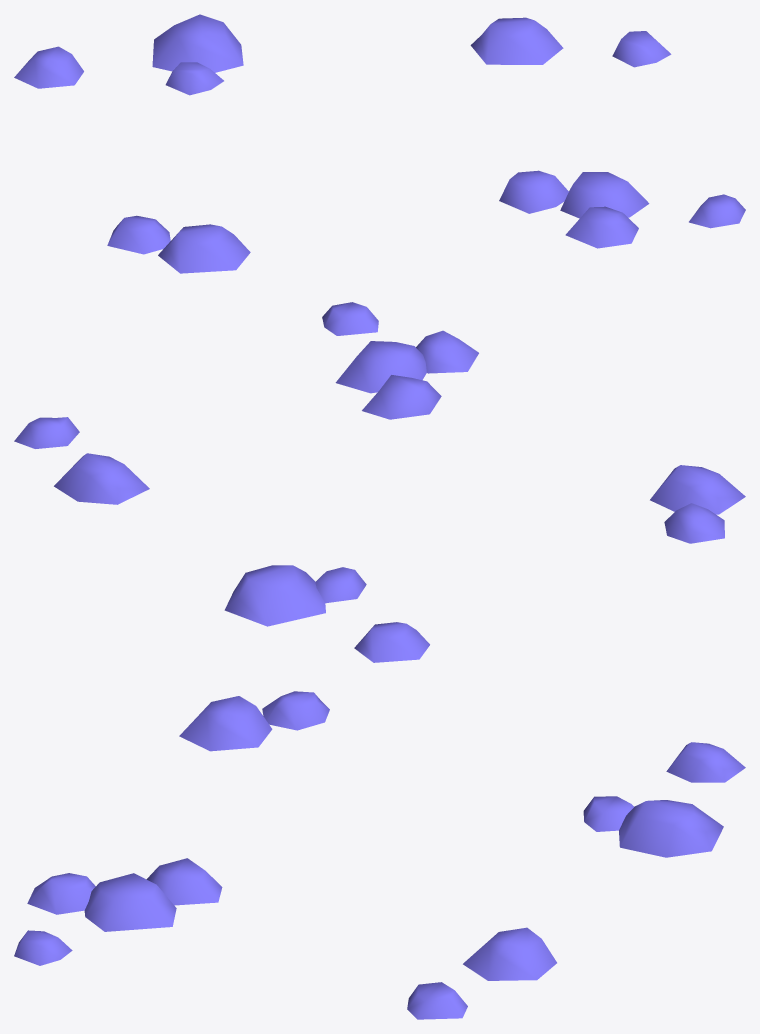
The model's file is SM_Env_Small_Rocks_02.obj.
3 renders of one model, top to bottom at view 1: azimuth 30°, elevation 25°; view 2: azimuth 150°, elevation 25°; view 3: azimuth 270°, elevation 25°, orthographic. The views are drawn at different scales.
Parts seen in each view (by area): view 1: SM_Env_Small_Rocks_02_Mat_GradientRock; view 2: SM_Env_Small_Rocks_02_Mat_GradientRock; view 3: SM_Env_Small_Rocks_02_Mat_GradientRock.
Part boxes in pixels (box(x1,y1,x2,y2)): SM_Env_Small_Rocks_02_Mat_GradientRock: box(14, 14, 745, 273); SM_Env_Small_Rocks_02_Mat_GradientRock: box(14, 302, 745, 662); SM_Env_Small_Rocks_02_Mat_GradientRock: box(14, 691, 745, 1019).
Bounding box in the file's own units: 2.04 × 0.095 × 1.97.
Materials: 1 (1 with a texture image).
